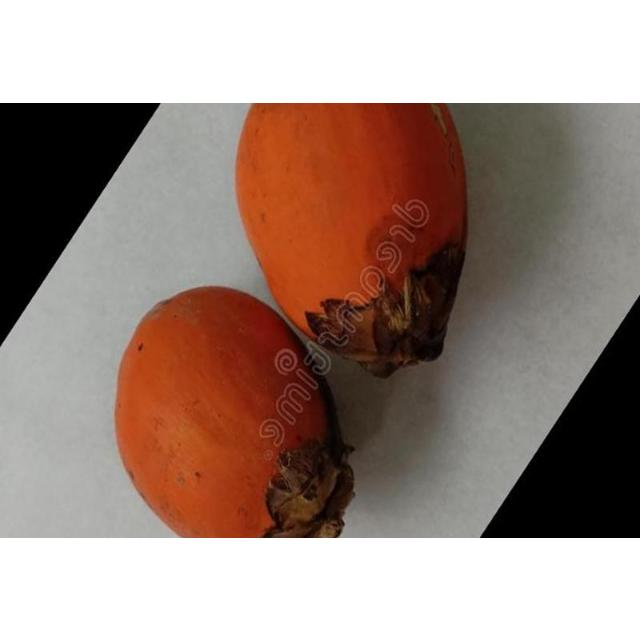good: (234, 102, 468, 379), (114, 285, 356, 536)
